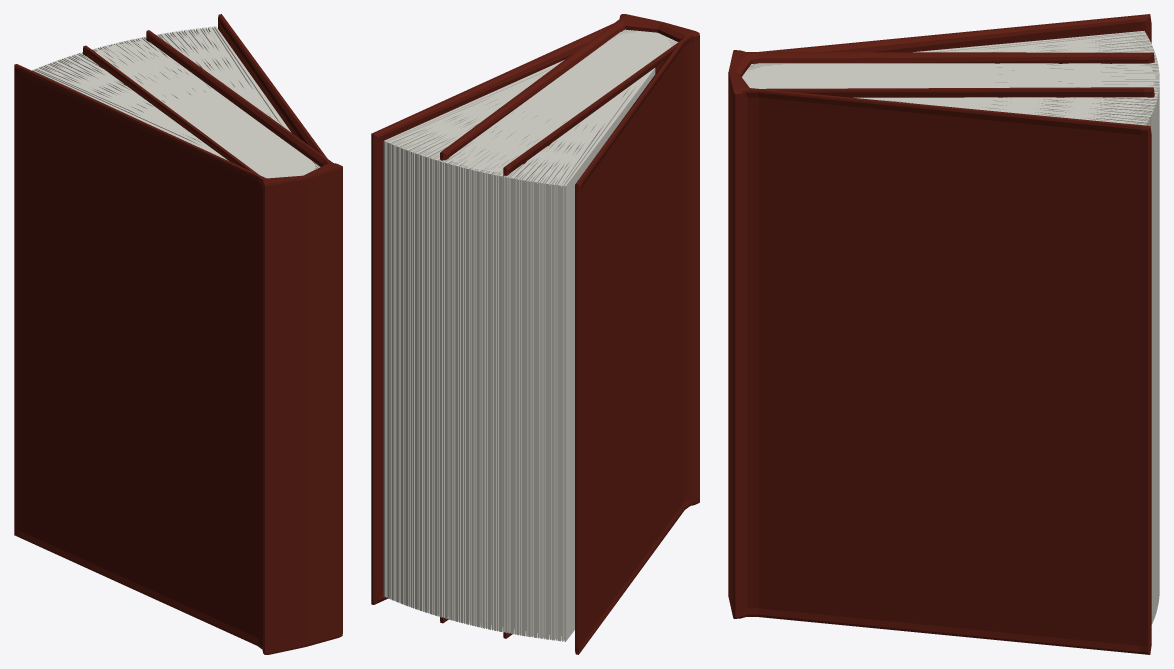
Rendered from SpecialBooks.fbx.
3 renders of one model, left to right at view 1: azimuth 30°, elevation 25°; view 2: azimuth 150°, elevation 25°; view 3: azimuth 270°, elevation 25°, orthographic. The views are drawn at different scales.
Visible parts, largest first — view 1: Book.Open.Joined, BookPaper.Closed.Joined; view 2: Book.Open.Joined, BookPaper.Closed.Joined; view 3: Book.Open.Joined, BookPaper.Closed.Joined.
Boxes of the visible parts, left/top/right/bottom form: Book.Open.Joined: left=14, top=14, right=342, bottom=654; BookPaper.Closed.Joined: left=83, top=30, right=342, bottom=649; Book.Open.Joined: left=371, top=14, right=699, bottom=654; BookPaper.Closed.Joined: left=440, top=14, right=699, bottom=638; Book.Open.Joined: left=728, top=14, right=1159, bottom=654; BookPaper.Closed.Joined: left=728, top=50, right=1155, bottom=618.
Bounding box in the file's own units: 11.53 × 24.85 × 18.4.
